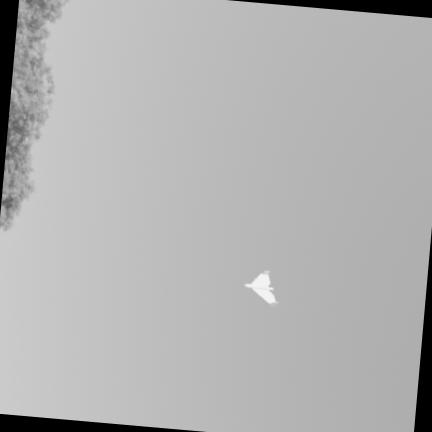Shahed: (244, 271, 277, 306)
